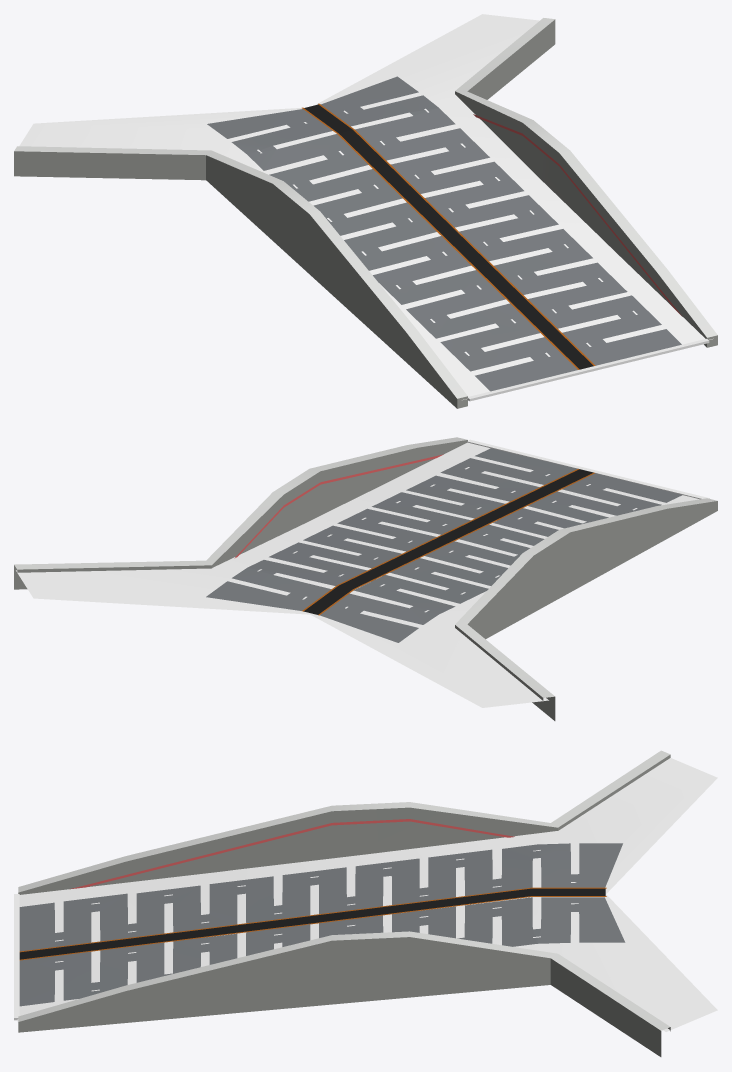
The model's file is R0_Park_Center_road_L2.fbx.
3 renders of one model, top to bottom at view 1: azimuth 30°, elevation 25°; view 2: azimuth 150°, elevation 25°; view 3: azimuth 270°, elevation 25°, orthographic. The views are drawn at different scales.
Parts seen in each view (by area): view 1: R0_Park_Center_road_L2; view 2: R0_Park_Center_road_L2; view 3: R0_Park_Center_road_L2.
Part boxes in pixels (x1,y1,x2,y2): R0_Park_Center_road_L2: (14,14,717,408); R0_Park_Center_road_L2: (14,437,717,720); R0_Park_Center_road_L2: (14,750,717,1056).
Size of the model in its own units: 22.52 by 3.58 by 23.9.
